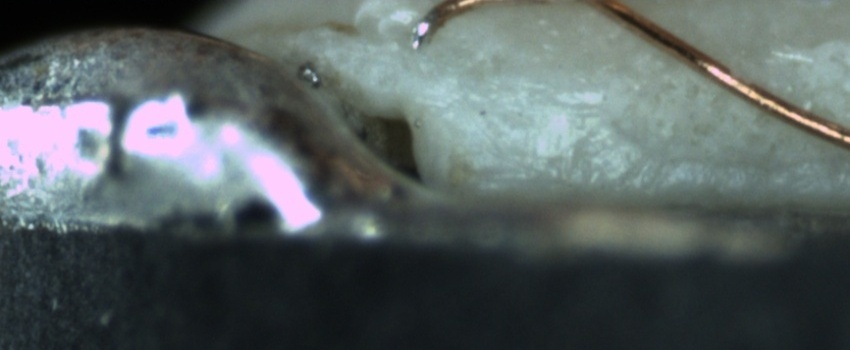DL: (446, 73, 603, 135)
